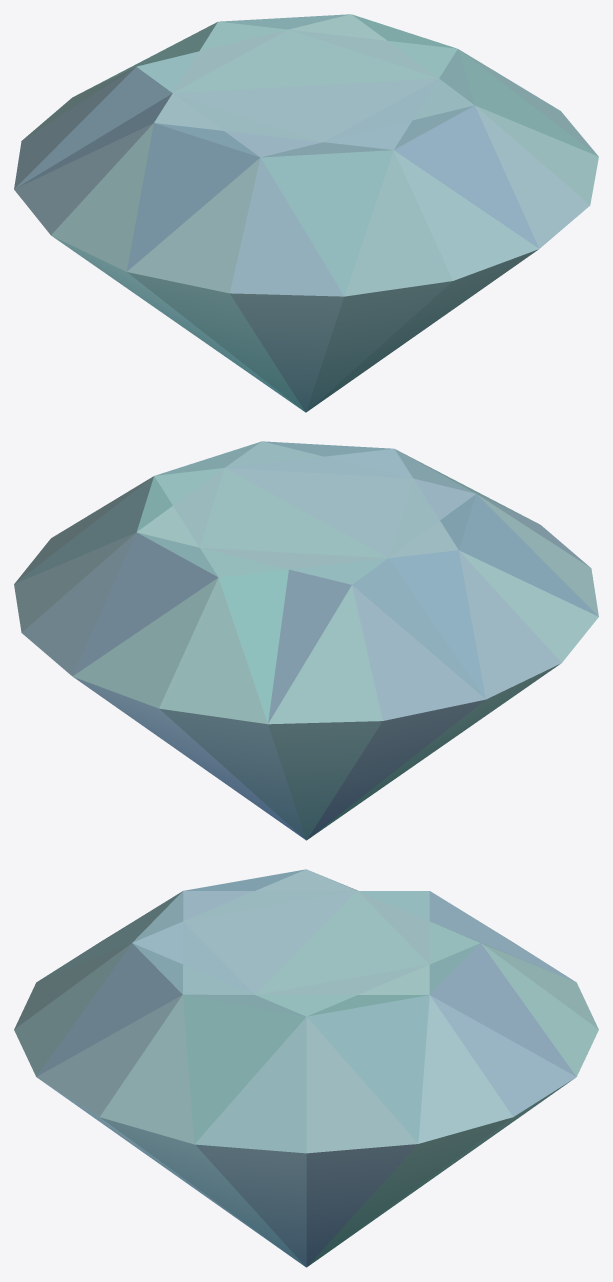
Rendered from geology-crystals-diamond_v6.fbx.
The picture shows the model from 3 angles, top to bottom: view 1: azimuth 30°, elevation 25°; view 2: azimuth 150°, elevation 25°; view 3: azimuth 270°, elevation 25°; orthographic projection.
Visible parts, largest first — view 1: Diamond_v6; view 2: Diamond_v6; view 3: Diamond_v6.
Part boxes in pixels (x1,y1,x2,y2): Diamond_v6: (14, 14, 598, 412); Diamond_v6: (14, 441, 598, 840); Diamond_v6: (14, 869, 598, 1267).
Bounding box in the file's own units: 0.6345 × 0.3887 × 0.6345.
